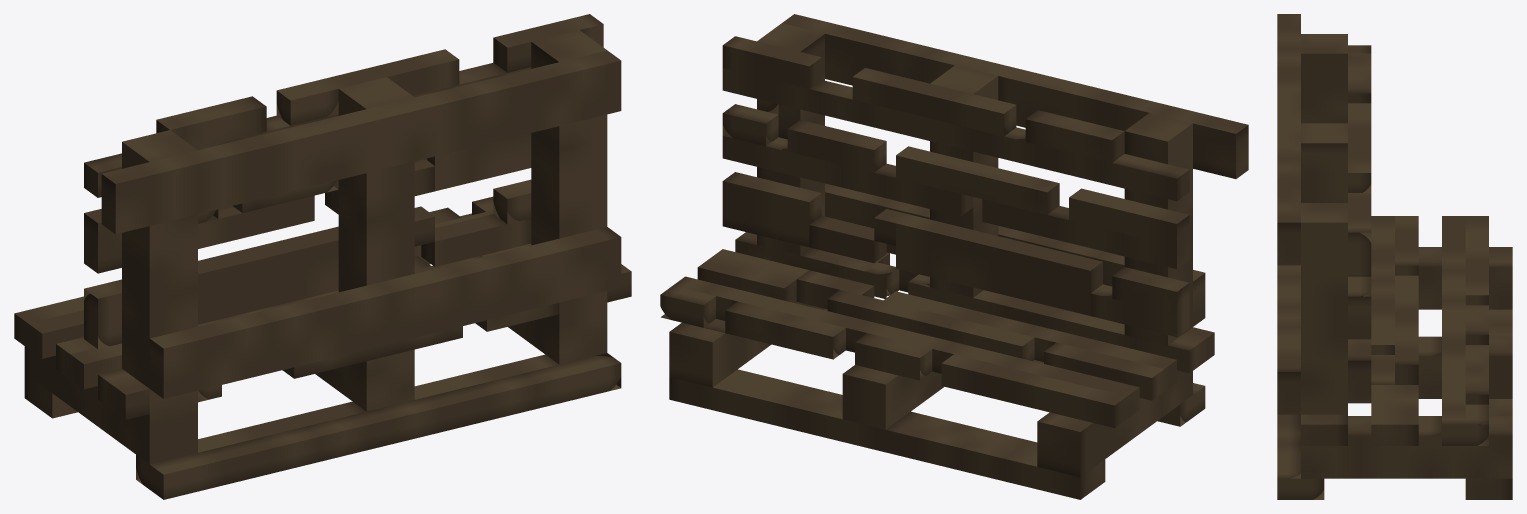
Rendered from lawka_paleta.dae.
The picture shows the model from 3 angles, left to right: view 1: azimuth 30°, elevation 25°; view 2: azimuth 150°, elevation 25°; view 3: azimuth 270°, elevation 25°; orthographic projection. The views are drawn at different scales.
Parts seen in each view (by area): view 1: Content; view 2: Content; view 3: Content.
Part boxes in pixels (bbox=[...]): Content: bbox=[14, 14, 631, 499]; Content: bbox=[660, 14, 1248, 499]; Content: bbox=[1277, 14, 1512, 499].
Bounding box in the file's own units: 22 × 13 × 10.
Materials: 1 (1 with a texture image).
